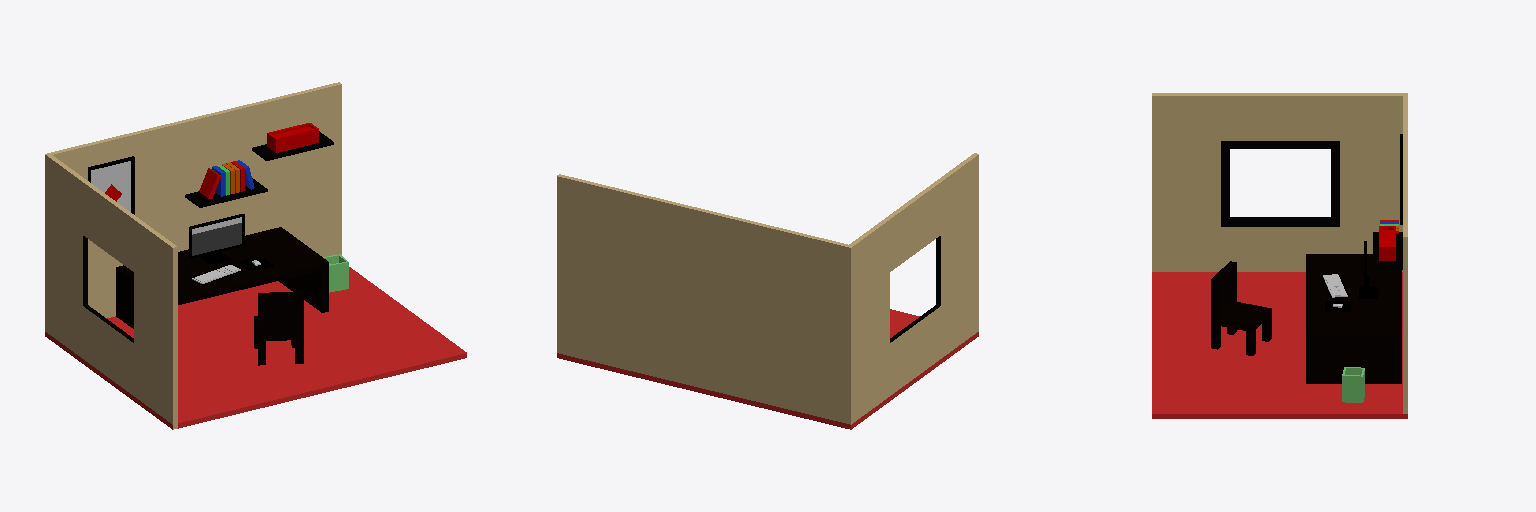
Rendered from room.obj.
3 renders of one model, left to right at view 1: azimuth 30°, elevation 25°; view 2: azimuth 150°, elevation 25°; view 3: azimuth 270°, elevation 25°, orthographic.
Parts seen in each view (by area): view 1: Plane_Plane.001, Plane.001_Plane.002, Plane.009_Plane.011, Plane.011_Plane.013, Plane.013_Plane.015, Plane.012_Plane.014, Plane.016_Plane.018, Plane.014_Plane.016, Plane.010_Plane.012; view 2: Plane_Plane.001; view 3: Plane_Plane.001, Plane.001_Plane.002, Plane.009_Plane.011, Plane.010_Plane.012, Plane.012_Plane.014, Plane.014_Plane.016.
Boxes of the visible parts, x1,y1,x2,y2 form: Plane_Plane.001: [45, 82, 466, 429]; Plane.001_Plane.002: [116, 227, 328, 328]; Plane.009_Plane.011: [254, 291, 303, 365]; Plane.011_Plane.013: [88, 156, 134, 214]; Plane.013_Plane.015: [199, 160, 254, 198]; Plane.012_Plane.014: [185, 131, 333, 207]; Plane.016_Plane.018: [192, 217, 241, 255]; Plane.014_Plane.016: [267, 123, 318, 152]; Plane.010_Plane.012: [323, 254, 348, 292]; Plane_Plane.001: [557, 153, 978, 429]; Plane_Plane.001: [1152, 93, 1407, 418]; Plane.001_Plane.002: [1306, 254, 1401, 383]; Plane.009_Plane.011: [1211, 261, 1271, 355]; Plane.010_Plane.012: [1342, 367, 1364, 402]; Plane.012_Plane.014: [1373, 232, 1402, 269]; Plane.014_Plane.016: [1379, 226, 1395, 260].
Bounding box in the file's own units: 7.12 × 4.2 × 5.37.